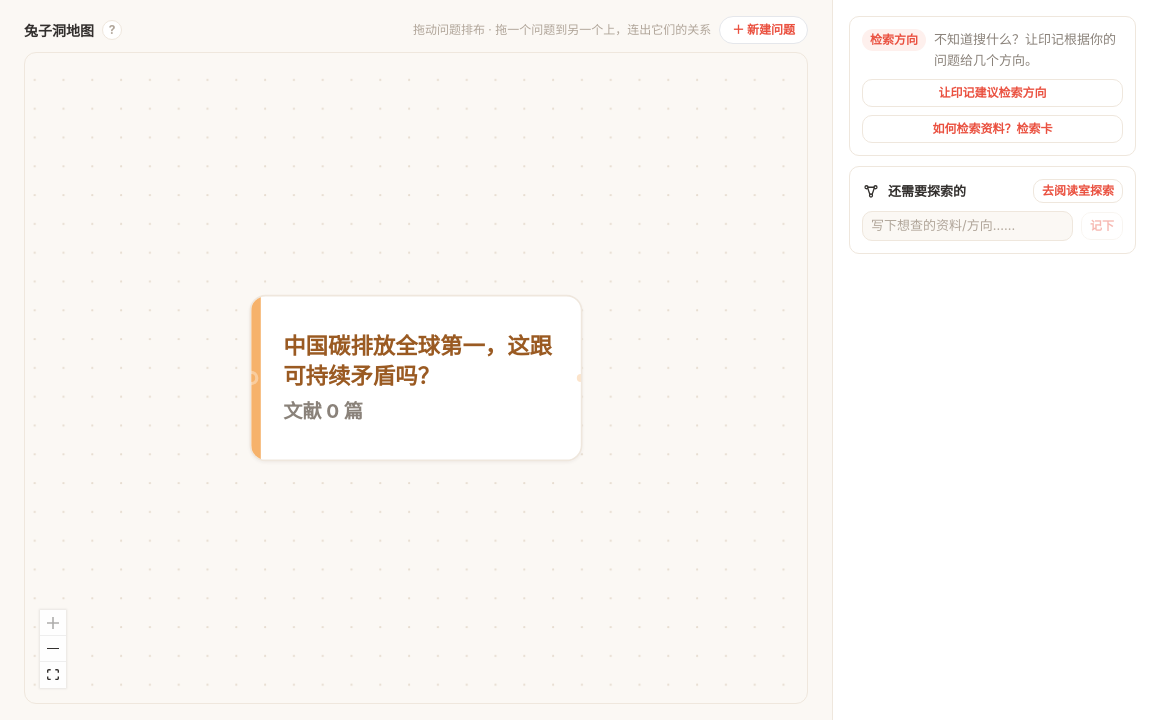
Test: ExplorationView › the graph title 兔子洞地图 has a ? that explains the metaphor in plain words
Expected: the heading "兔子洞地图" is shown, [24,20,94,40]
Click the button named "这是什么". click: (112, 30)
box: [102,20,122,40]
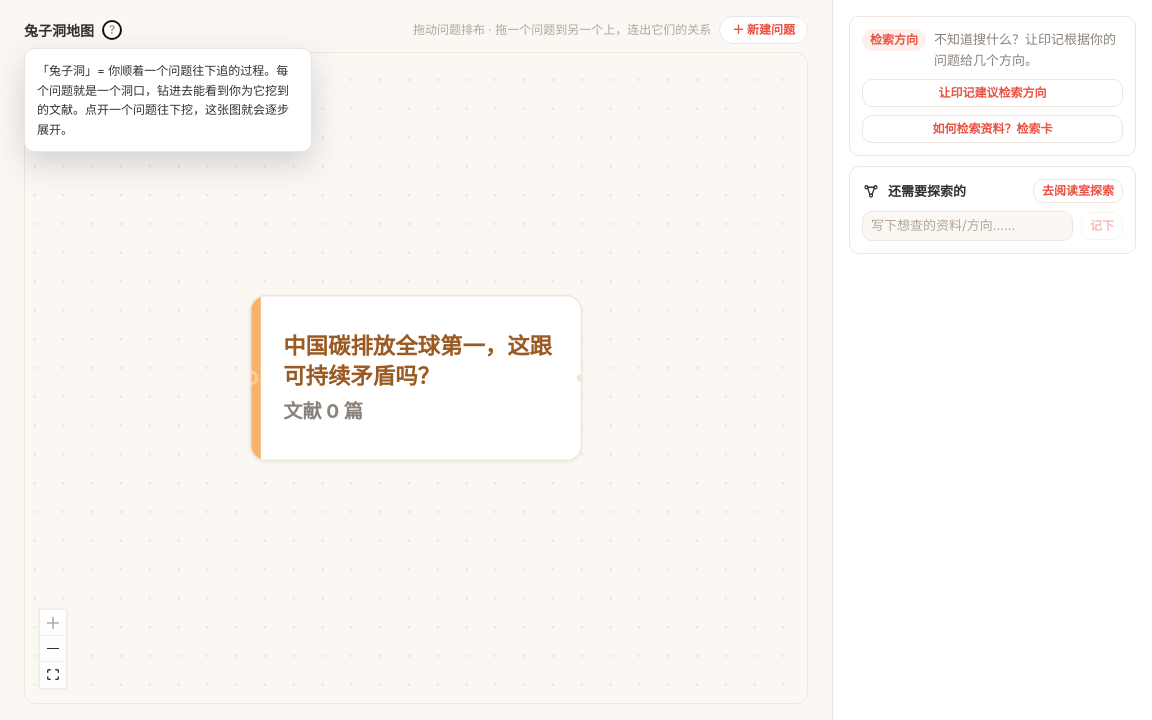
Now the text "每个问题就是一个洞口" is shown, box [37,63,289,136]
